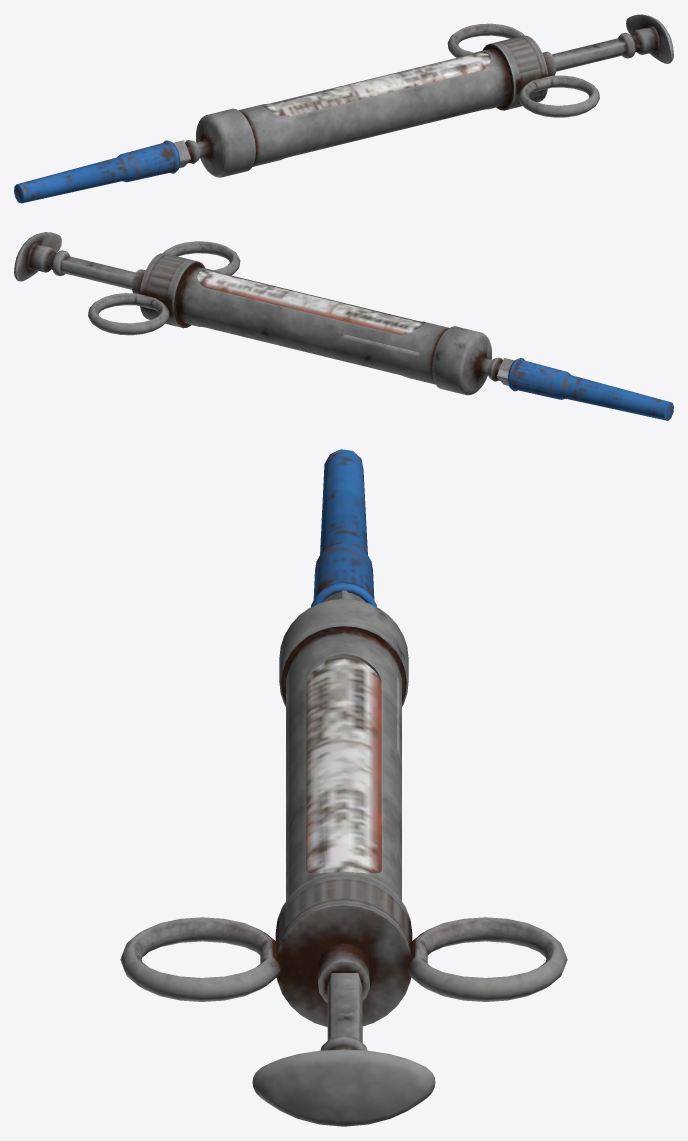
File: Injection.FBX
The picture shows the model from 3 angles, top to bottom: view 1: azimuth 30°, elevation 25°; view 2: azimuth 150°, elevation 25°; view 3: azimuth 270°, elevation 25°; orthographic projection. The views are drawn at different scales.
Parts seen in each view (by area): view 1: Injection_Static; view 2: Injection_Static; view 3: Injection_Static.
Boxes of the visible parts, box(x1,y1,x2,y2) form: Injection_Static: box(14, 14, 673, 203); Injection_Static: box(14, 232, 673, 420); Injection_Static: box(120, 449, 567, 1126).
Bounding box in the file's own units: 17.96 × 1.66 × 5.42.
